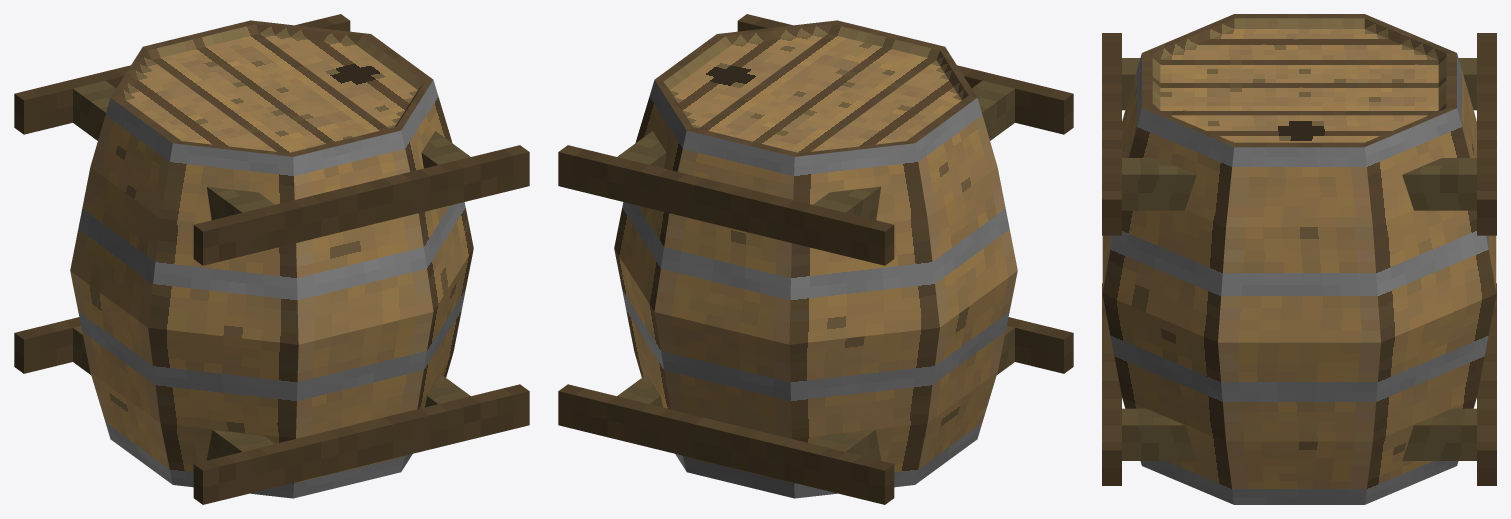
The model's file is wood_barrel_supported.obj.
3 views of the same model, side by side, from view 1: azimuth 30°, elevation 25°; view 2: azimuth 150°, elevation 25°; view 3: azimuth 270°, elevation 25° (orthographic). The views are drawn at different scales.
Parts seen in each view (by area): view 1: Cylinder_Cylinder.001; view 2: Cylinder_Cylinder.001; view 3: Cylinder_Cylinder.001.
Part boxes in pixels (x1,y1,x2,y2): Cylinder_Cylinder.001: [14, 14, 529, 504]; Cylinder_Cylinder.001: [558, 14, 1073, 504]; Cylinder_Cylinder.001: [1102, 14, 1496, 504].
Size of the model in its own units: 1 by 1 by 1.
